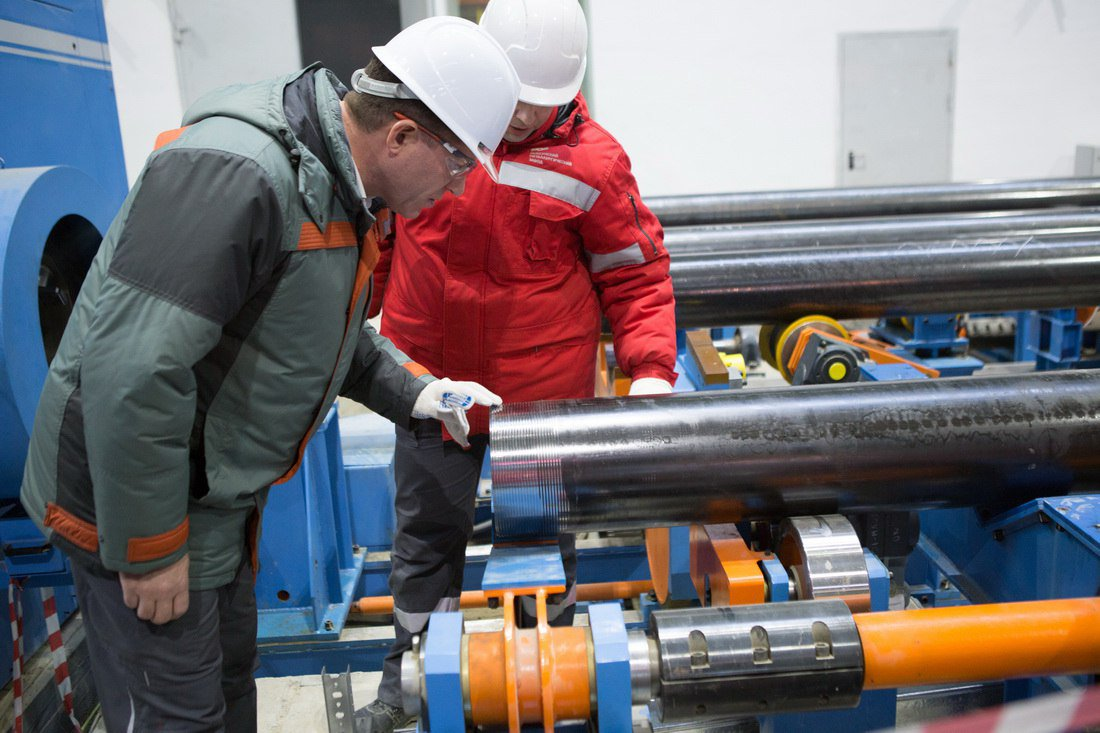person: (17, 15, 522, 733), (349, 1, 676, 733)
